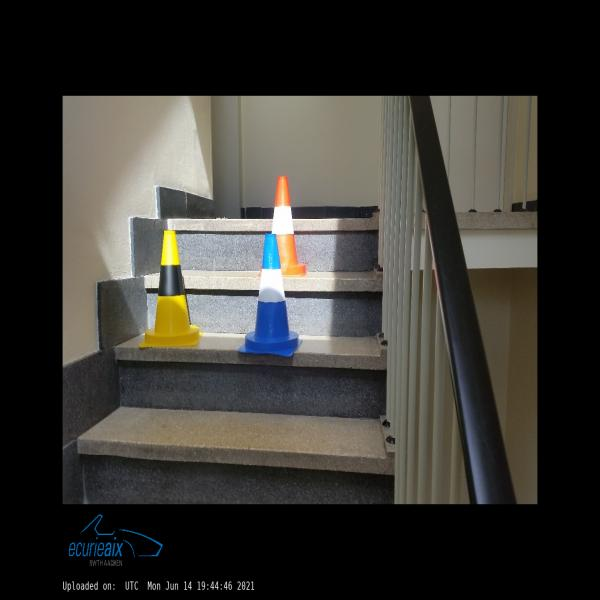blue_cone: (238, 234, 302, 357)
orange_cone: (258, 176, 307, 276)
yellow_cone: (140, 230, 202, 347)
